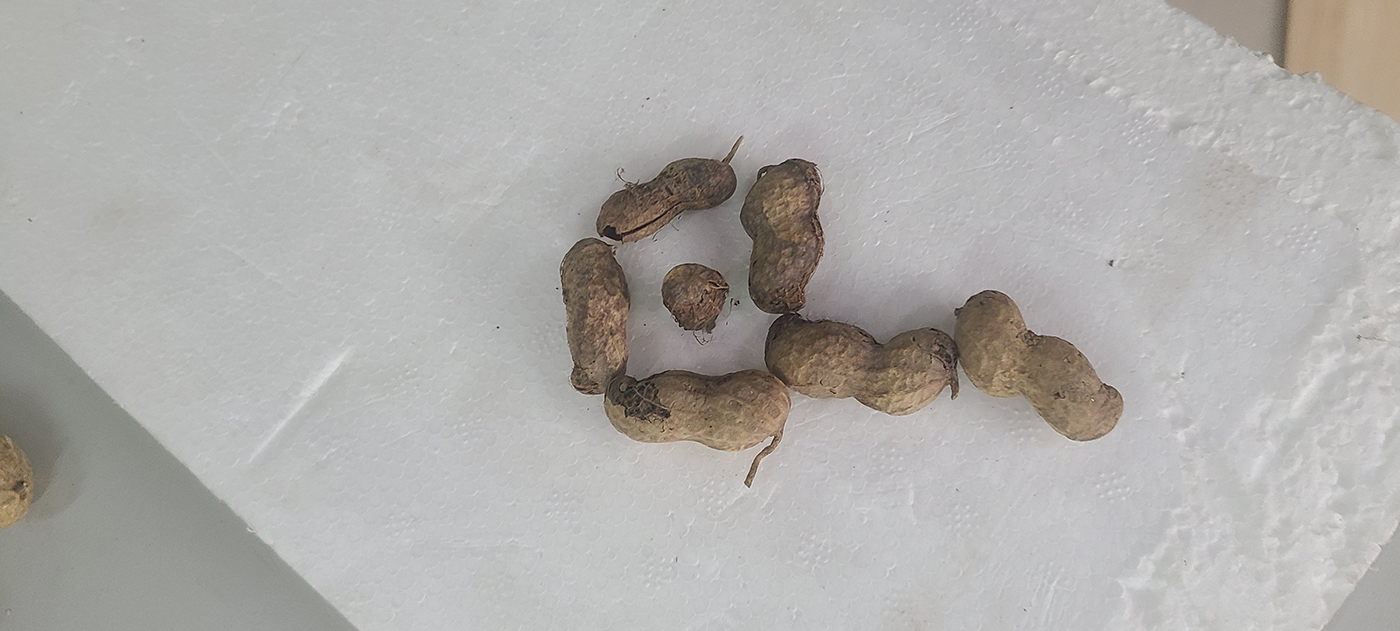l: (956, 291, 1124, 441), (765, 313, 959, 415), (603, 369, 792, 452), (739, 158, 825, 315), (596, 159, 737, 242), (561, 237, 632, 396), (662, 263, 726, 333)
